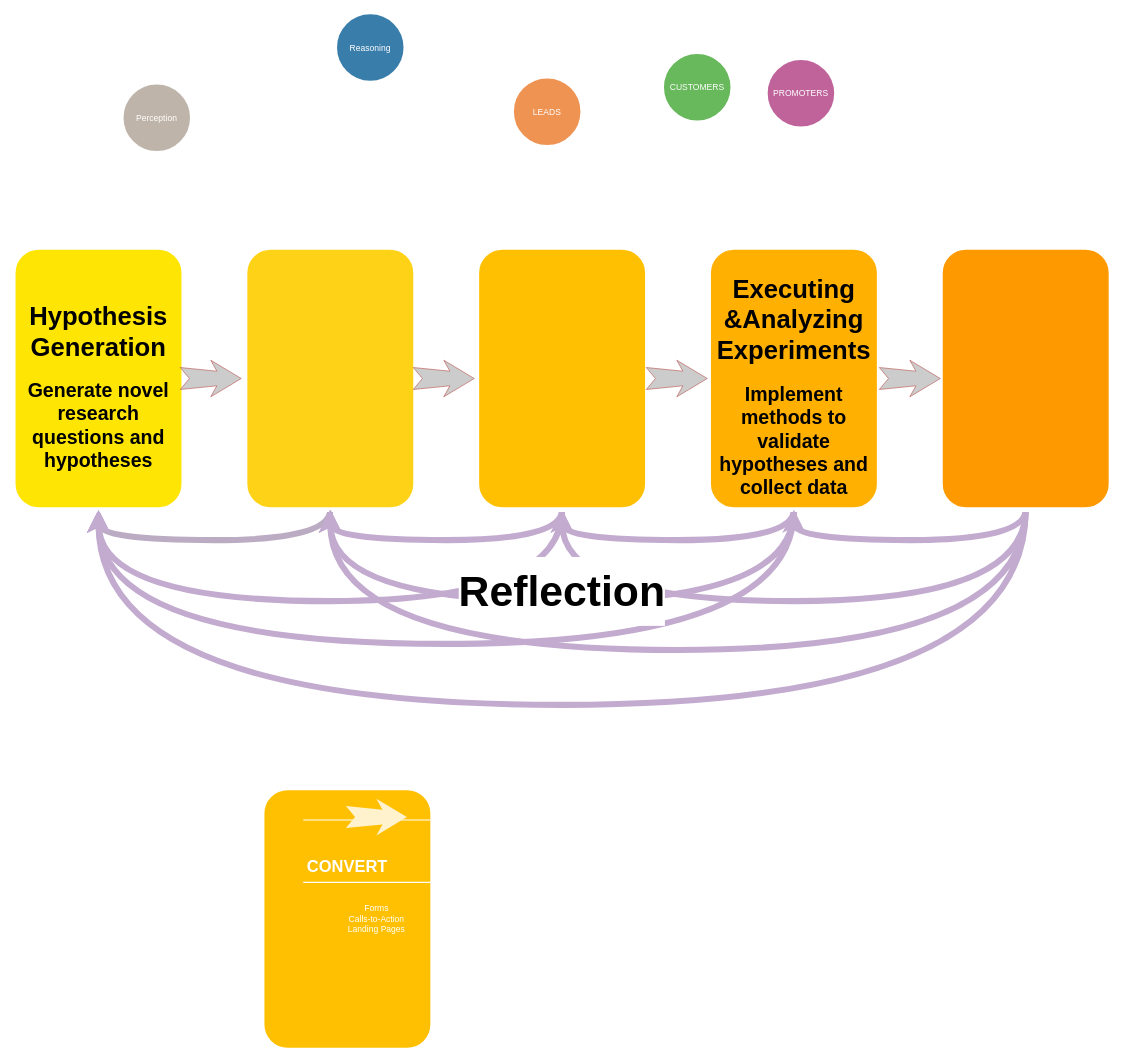
Image size: 1124x1063. Some labels were removed from this diagram. The centre of each missing label's shape, as x and y in pixels:
"Literature Review Synthesize existing knowledge and contextualize new hypotheses" belongs at (x=330, y=378).
"Method Design Convert theoretical ideas into actionable workflows" belongs at (x=562, y=378).
"Writing Papers& Reports Synthesize research findings into cohesive papers" belongs at (x=1025, y=378).
